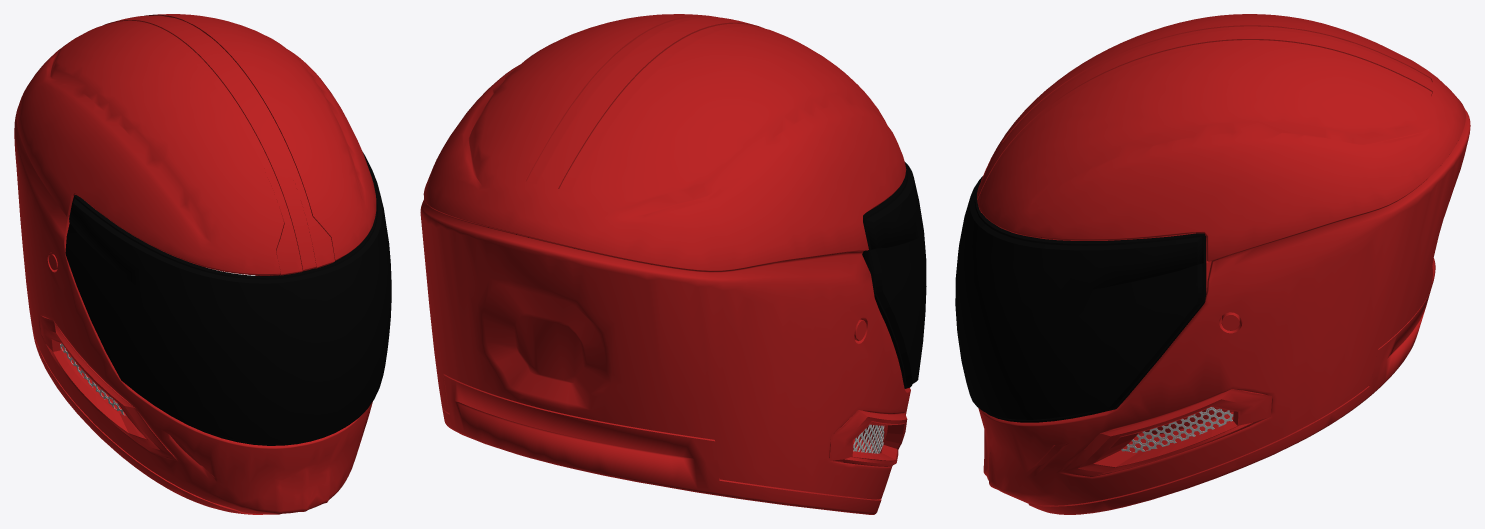
The model's file is helmet-b.glb.
3 views of the same model, side by side, from view 1: azimuth 30°, elevation 25°; view 2: azimuth 150°, elevation 25°; view 3: azimuth 270°, elevation 25° (orthographic). The views are drawn at different scales.
Visible parts, largest first — view 1: polySurface7_blinn1_0, polySurface4_blinn2_0; view 2: polySurface7_blinn1_0, polySurface4_blinn2_0, pCylinder21_lambert1_0; view 3: polySurface7_blinn1_0, polySurface4_blinn2_0, pCylinder21_lambert1_0.
Boxes of the visible parts, x1,y1,x2,y2 form: polySurface7_blinn1_0: [14, 14, 376, 514]; polySurface4_blinn2_0: [65, 152, 391, 445]; polySurface7_blinn1_0: [420, 14, 910, 514]; polySurface4_blinn2_0: [862, 162, 926, 388]; pCylinder21_lambert1_0: [853, 424, 884, 453]; polySurface7_blinn1_0: [977, 14, 1470, 514]; polySurface4_blinn2_0: [955, 176, 1206, 422]; pCylinder21_lambert1_0: [1121, 407, 1233, 452].
Size of the model in its own units: 0.0753 by 0.0986 by 0.101.
